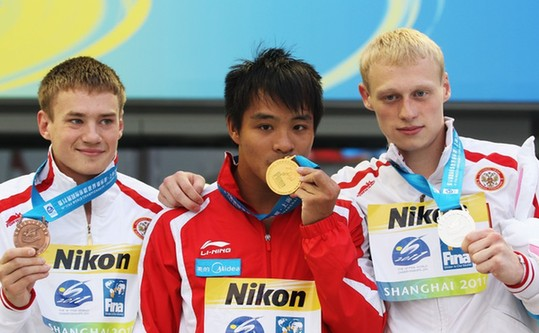face: (243, 88, 312, 182), (373, 57, 438, 148), (52, 86, 117, 174)
